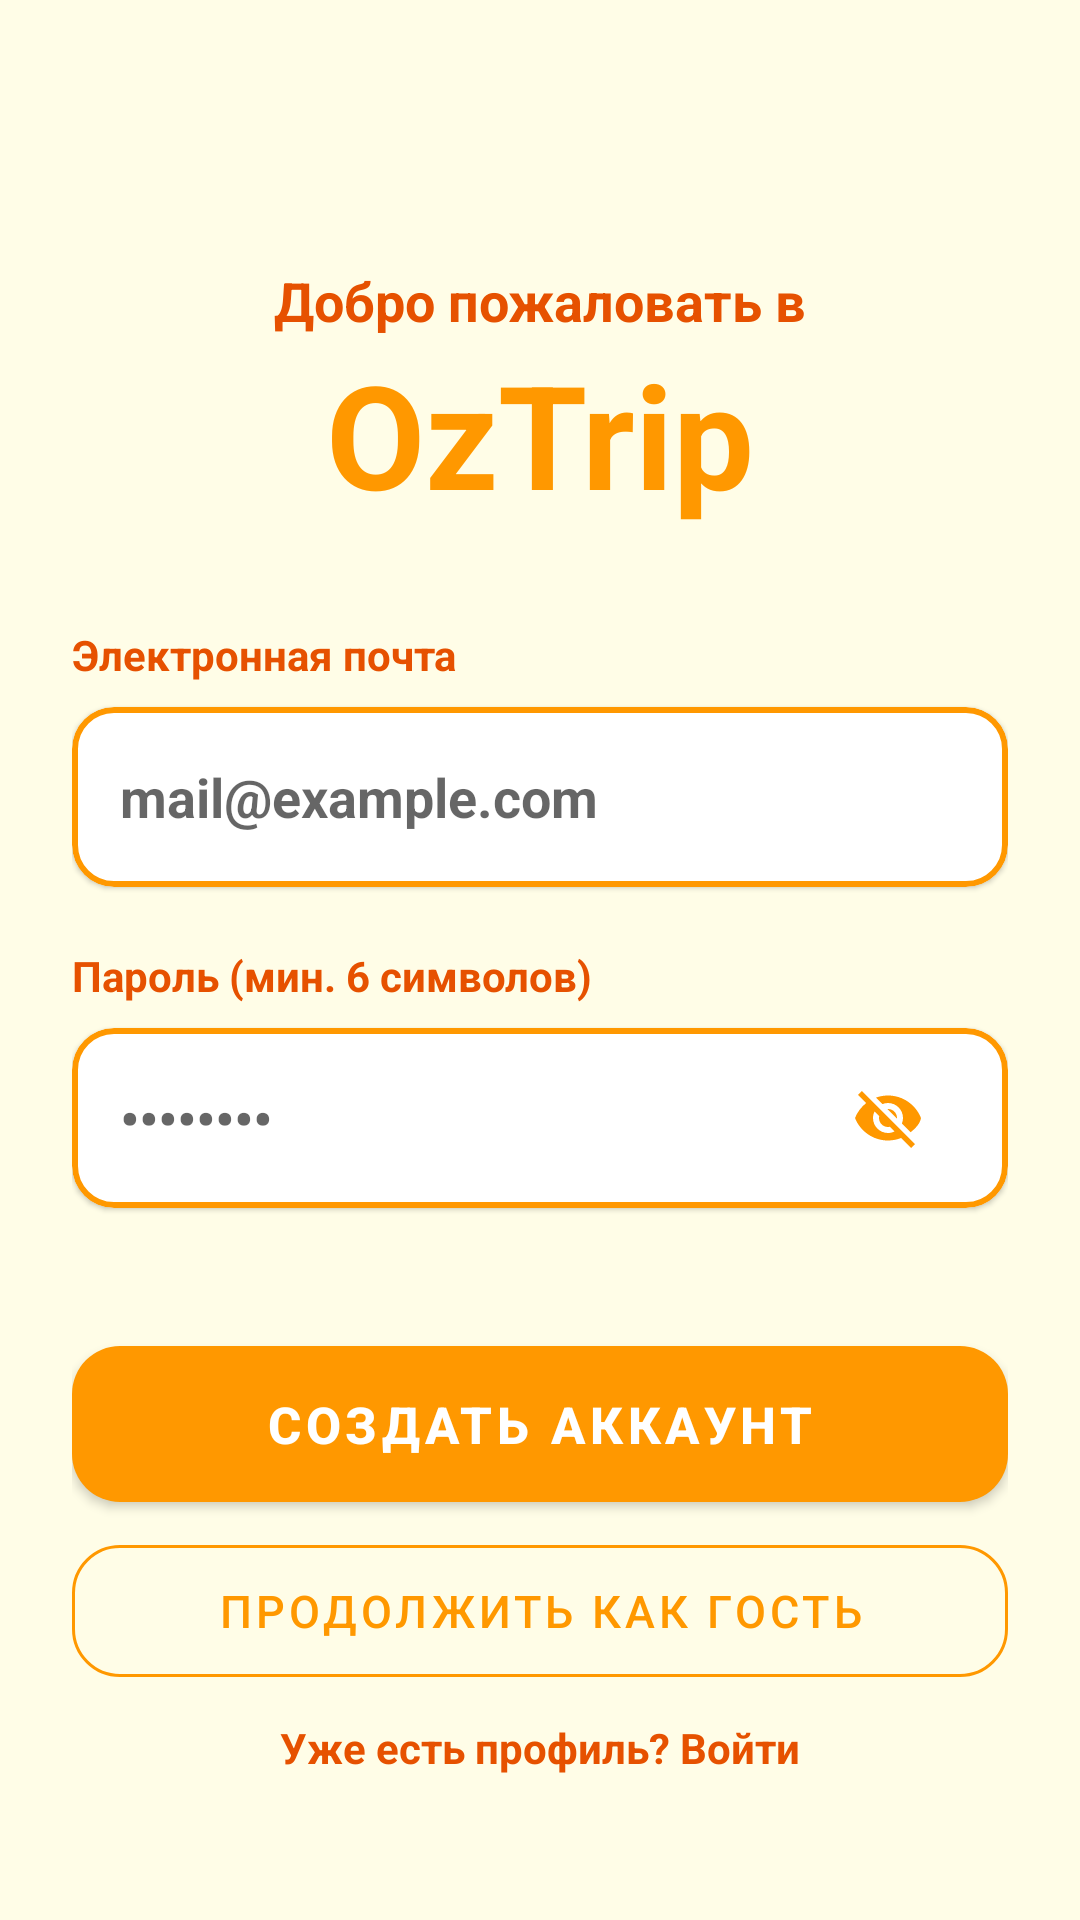

Screen size 1080w x 1920h. Icon name, then its box in pixels as (x1,y1,x2,y2):
eye off: (855,1091,921,1148)
